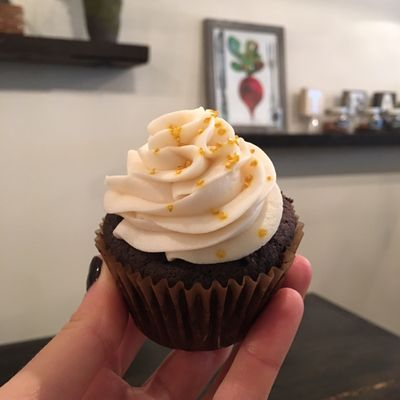sushi: (93, 105, 307, 354)
